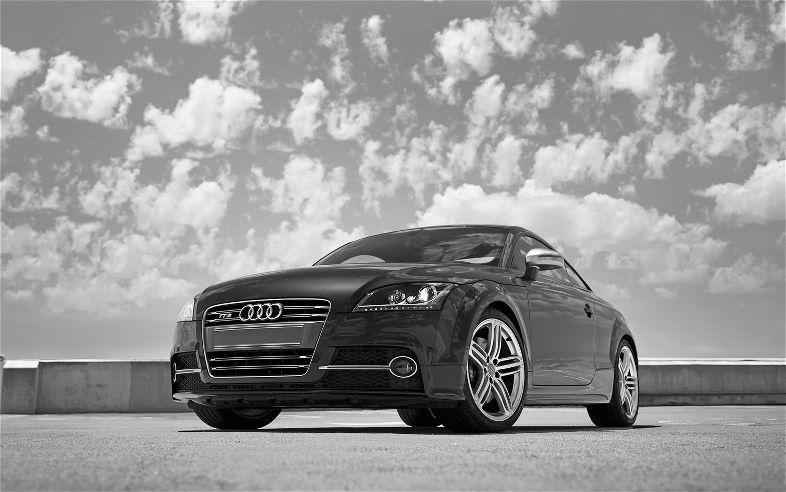car: (172, 227, 644, 432)
